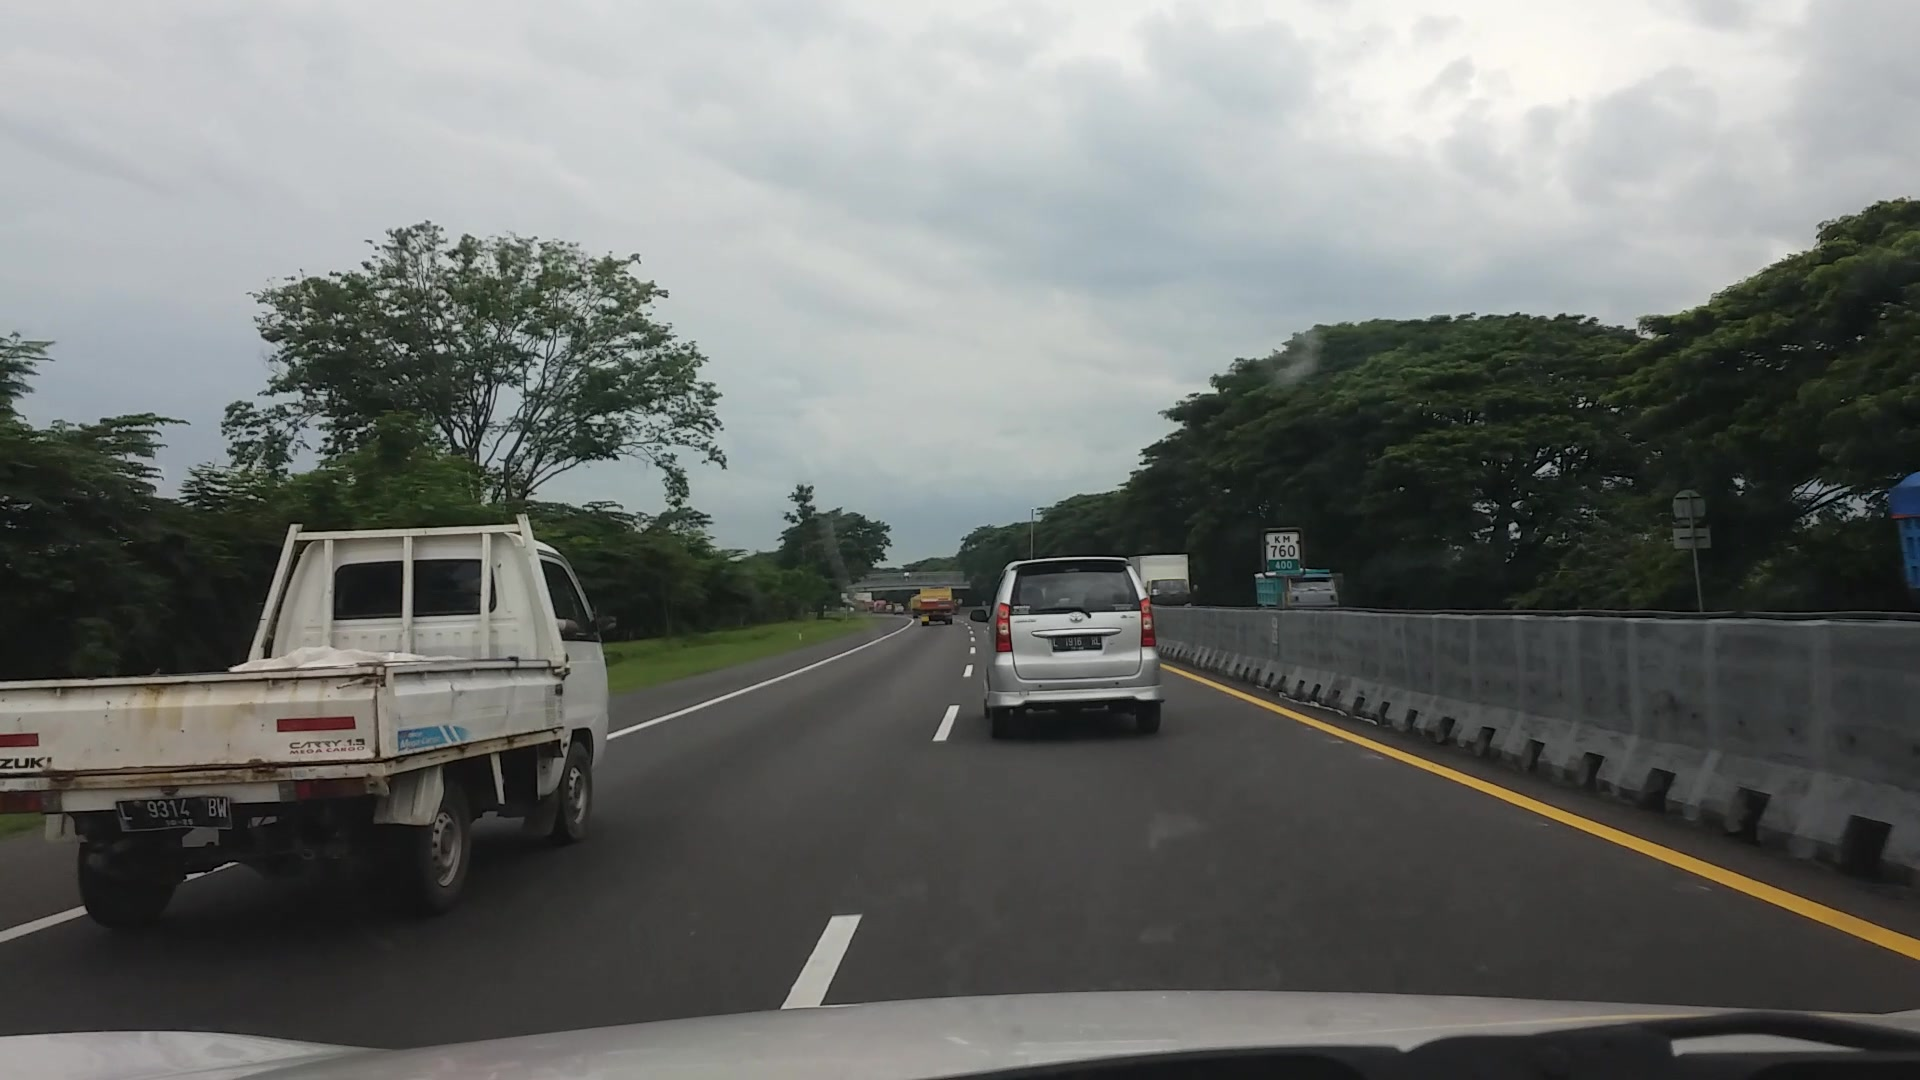plate_positive: (115, 796, 231, 829), (1051, 636, 1102, 651)
